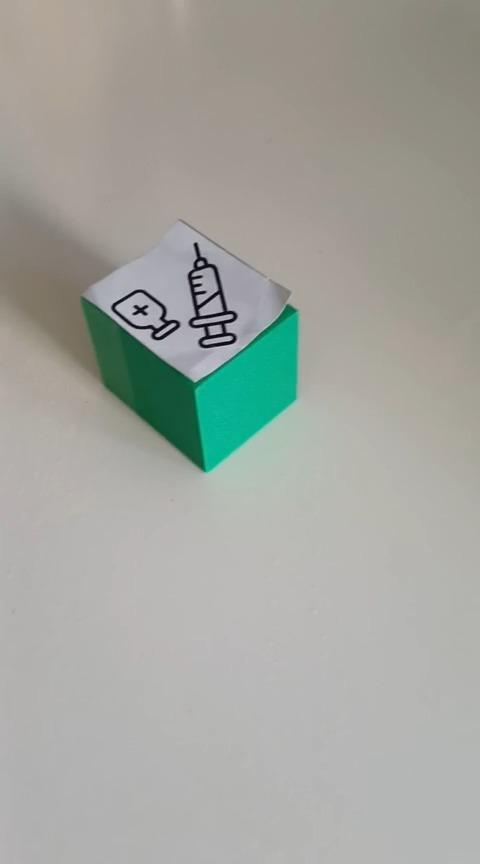antiseptic cream: (78, 217, 300, 473)
